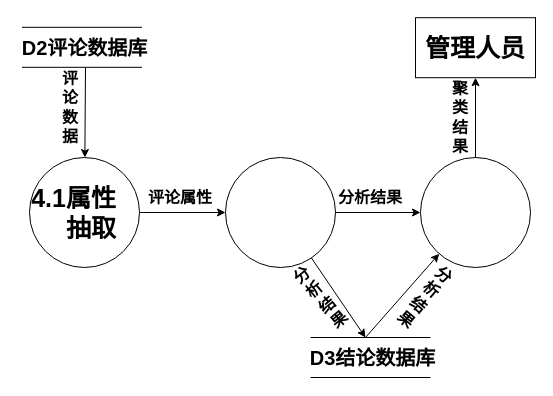
This 553x396 diagram has some shape labels left out. Here are the shapes that lost their labels. From the top down, the box of each, then its label:
(224, 156, 336, 268): 4.2 属性级情感分类
(420, 156, 530, 268): 4.3观点 聚类
